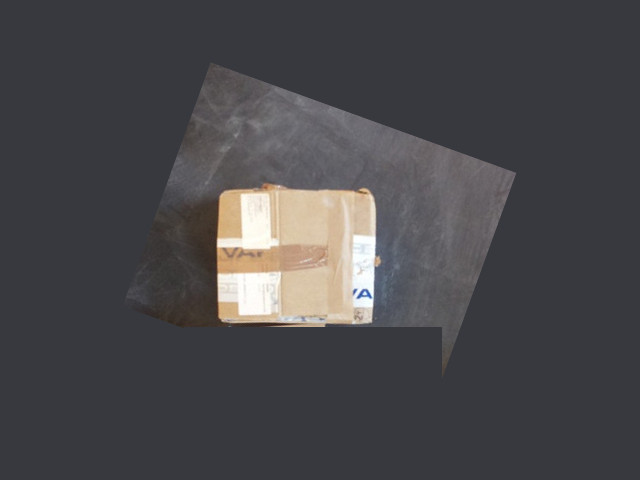cardboard: (219, 187, 373, 322)
